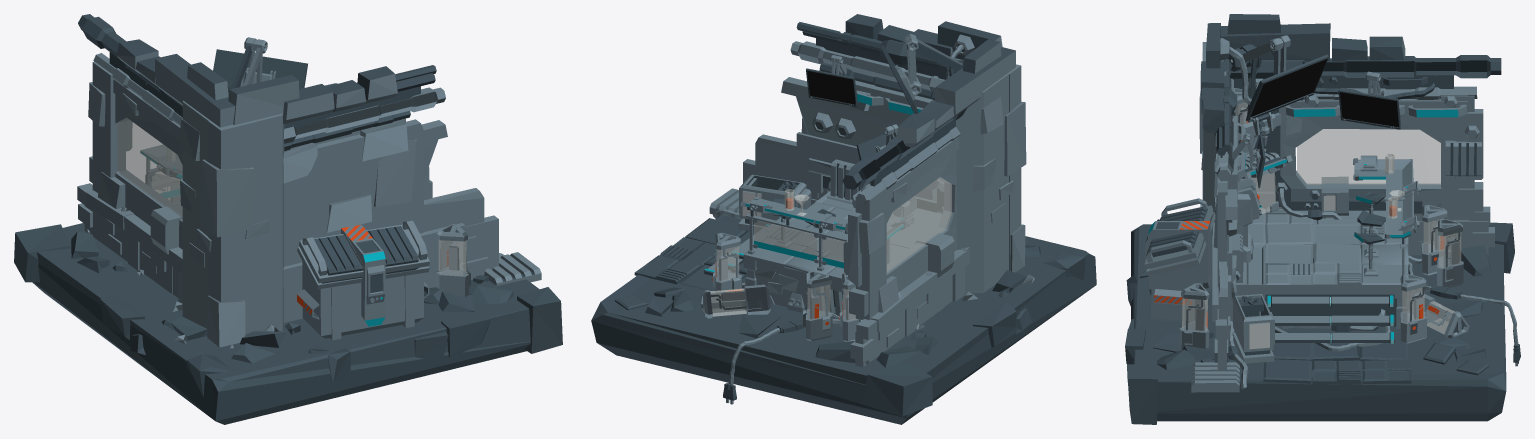
The model's file is Cyberpunk Bar.fbx.
3 renders of one model, left to right at view 1: azimuth 30°, elevation 25°; view 2: azimuth 150°, elevation 25°; view 3: azimuth 270°, elevation 25°, orthographic. The views are drawn at different scales.
Parts seen in each view (by area): view 1: model6:mesh1849163075, model6:mesh1698529524, model6:mesh1459223550, model6:mesh87630066, model6:mesh54319398, model6:mesh1415885147, model6:mesh1416618523, model6:mesh388567560, model6:mesh965656625, model6:mesh2065830377, model6:mesh667175294, model6:mesh1204518475 (+45 smaller); view 2: model6:mesh1849163075, model6:mesh1698529524, model6:mesh282227351, model6:mesh54319398, model6:mesh388567560, model6:mesh1376866176, model6:mesh883562538, model6:mesh1050439806, model6:mesh965656625, model6:mesh1416618523, model6:mesh628921701, model6:mesh667175294 (+57 smaller); view 3: model6:mesh1849163075, model6:mesh1459223550, model6:mesh54319398, model6:mesh388567560, model6:mesh2125687258, model6:mesh1250345781, model6:mesh1544801552, model6:mesh1050439806, model6:mesh628921701, model6:mesh965656625, model6:mesh1698529524, model6:mesh164350169 (+72 smaller).
Part boxes in pixels (bbox=[...]): model6:mesh1849163075: bbox=[32, 223, 539, 424]; model6:mesh1698529524: bbox=[182, 101, 284, 334]; model6:mesh1459223550: bbox=[297, 220, 429, 340]; model6:mesh87630066: bbox=[284, 119, 423, 266]; model6:mesh54319398: bbox=[117, 118, 182, 219]; model6:mesh1415885147: bbox=[200, 159, 254, 237]; model6:mesh1416618523: bbox=[92, 61, 125, 192]; model6:mesh388567560: bbox=[115, 94, 182, 249]; model6:mesh965656625: bbox=[155, 54, 235, 127]; model6:mesh2065830377: bbox=[284, 215, 498, 322]; model6:mesh667175294: bbox=[283, 87, 445, 143]; model6:mesh1204518475: bbox=[228, 75, 299, 125]; model6:mesh1849163075: bbox=[591, 215, 1096, 424]; model6:mesh1698529524: bbox=[938, 58, 1021, 293]; model6:mesh282227351: bbox=[796, 80, 936, 212]; model6:mesh54319398: bbox=[886, 177, 951, 272]; model6:mesh388567560: bbox=[886, 151, 956, 291]; model6:mesh1376866176: bbox=[745, 214, 890, 271]; model6:mesh883562538: bbox=[862, 362, 932, 416]; model6:mesh1050439806: bbox=[803, 271, 861, 341]; model6:mesh965656625: bbox=[934, 47, 1015, 119]; model6:mesh1416618523: bbox=[855, 187, 886, 319]; model6:mesh628921701: bbox=[738, 174, 811, 231]; model6:mesh667175294: bbox=[790, 41, 944, 91]; model6:mesh1849163075: bbox=[1131, 224, 1506, 421]; model6:mesh1459223550: bbox=[1144, 198, 1215, 322]; model6:mesh54319398: bbox=[1297, 129, 1440, 184]; model6:mesh388567560: bbox=[1280, 101, 1468, 213]; model6:mesh2125687258: bbox=[1230, 55, 1501, 78]; model6:mesh1250345781: bbox=[1246, 35, 1328, 120]; model6:mesh1544801552: bbox=[1353, 155, 1420, 244]; model6:mesh1050439806: bbox=[1421, 204, 1463, 287]; model6:mesh628921701: bbox=[1232, 294, 1274, 364]; model6:mesh965656625: bbox=[1221, 23, 1330, 61]; model6:mesh1698529524: bbox=[1202, 42, 1290, 222]; model6:mesh164350169: bbox=[1338, 71, 1400, 129].
Bounding box in the file's own units: 5.97 × 4.96 × 6.
